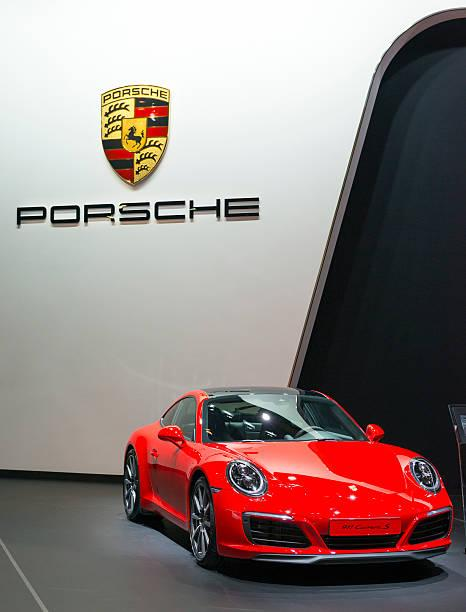porsche: (86, 80, 187, 191), (12, 194, 273, 235)
